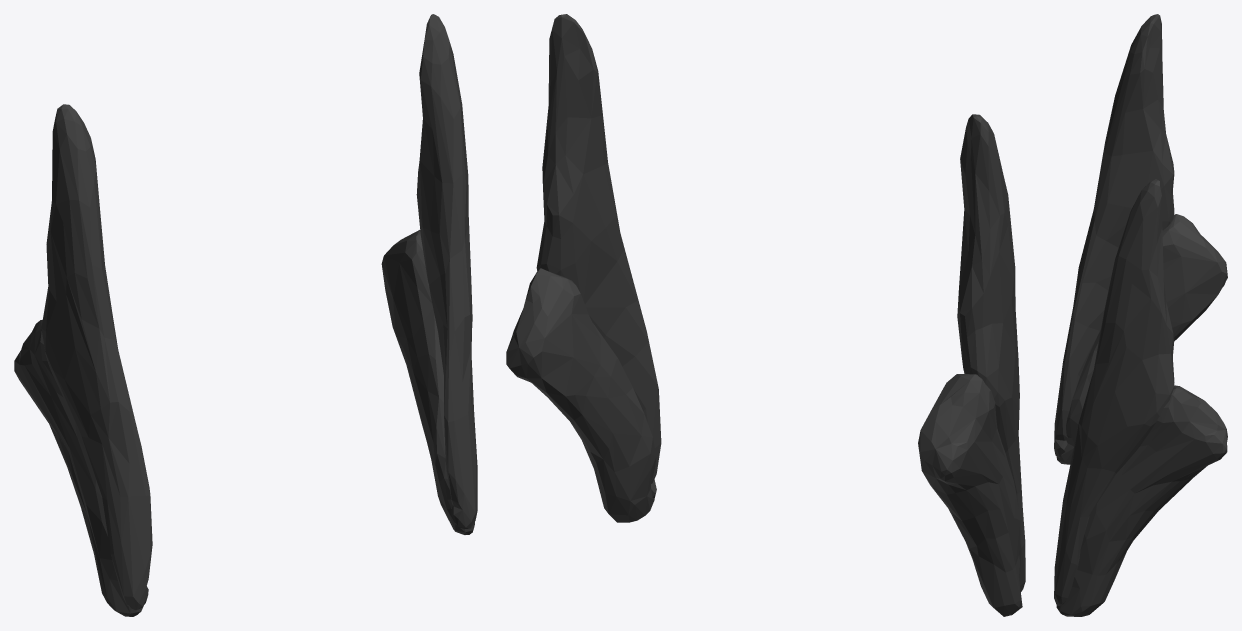
File: m_tensor_fasciae_latae.glb
3 views of the same model, side by side, from view 1: azimuth 30°, elevation 25°; view 2: azimuth 150°, elevation 25°; view 3: azimuth 270°, elevation 25° (orthographic). The views are drawn at different scales.
Parts seen in each view (by area): view 1: m_tensor_fasciae_latae; view 2: m_tensor_fasciae_latae; view 3: m_tensor_fasciae_latae.
Boxes of the visible parts, x1,y1,x2,y2 form: m_tensor_fasciae_latae: [14, 14, 477, 616]; m_tensor_fasciae_latae: [506, 14, 1025, 616]; m_tensor_fasciae_latae: [1054, 14, 1227, 616].
Bounding box in the file's own units: 0.00466 × 0.00521 × 0.00186.
Materials: 1 (1 with a texture image).
